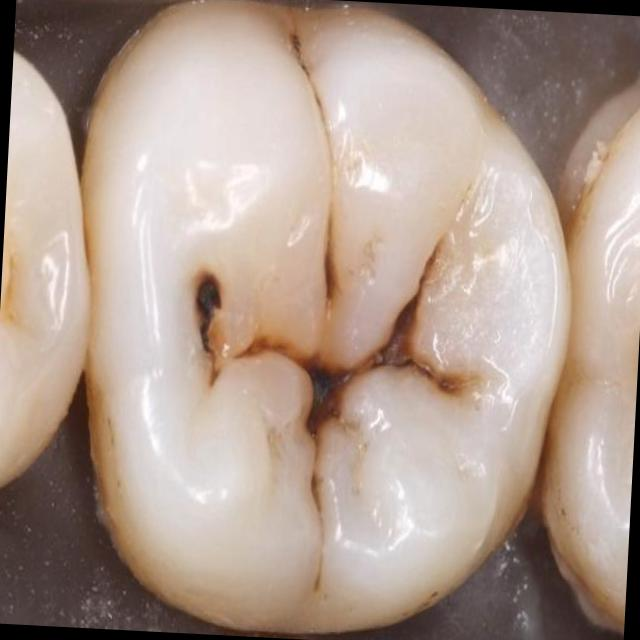Caries: (371, 244, 437, 381), (302, 353, 358, 447), (196, 274, 222, 353), (324, 215, 343, 301), (291, 36, 310, 81), (310, 473, 322, 514), (438, 374, 462, 394), (315, 93, 323, 108)
Tooth: (79, 0, 574, 639)
